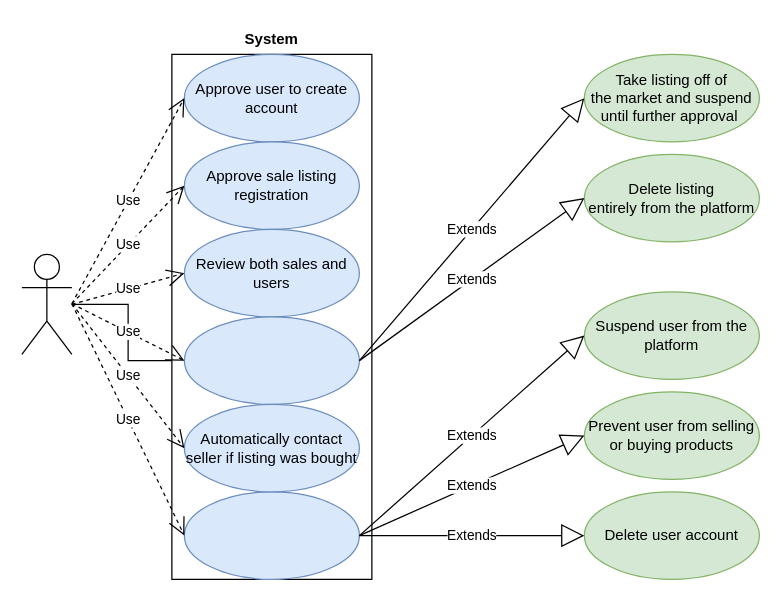
The diagram is 781 pixels wide and 601 high, and some of its shapes have lost their labels. Here are the shapes that lost their labels. From the top down, the box of each, then its label:
(21, 253, 72, 354): Admin
(183, 316, 359, 404): Forcefully remove sale listings
(183, 491, 359, 579): Restrict user access
